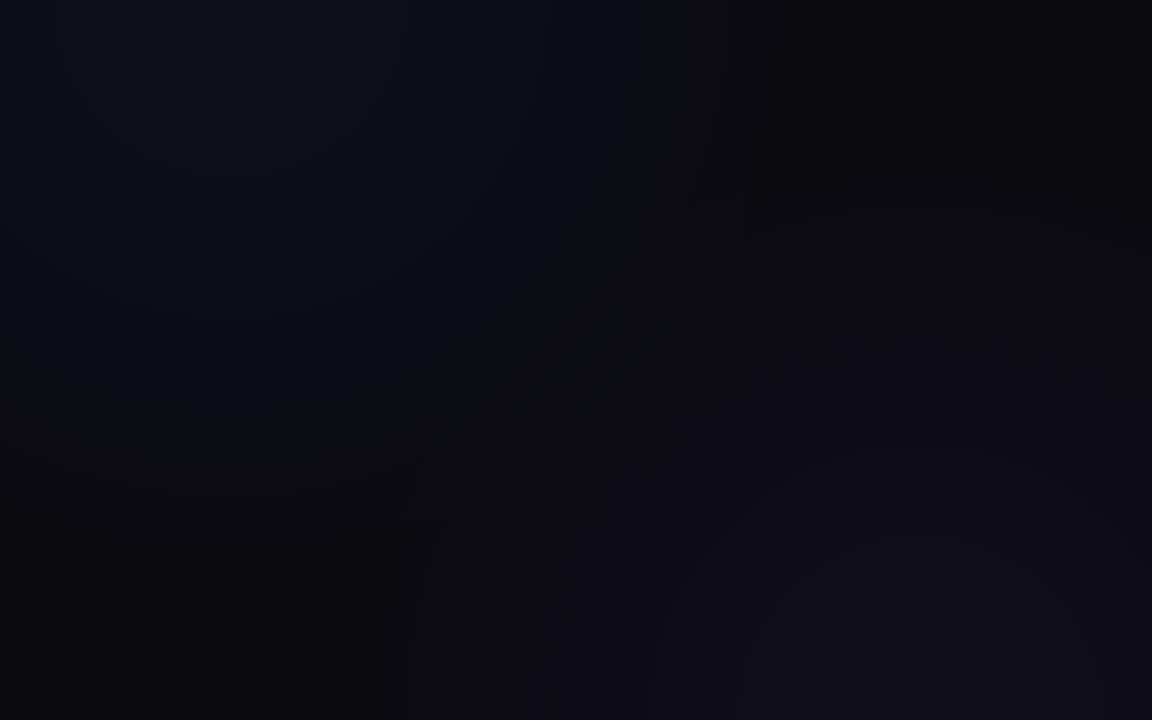
Test case: CommandPalette › selecting "Quick task" opens TaskComposer (Sheet visible) and closes the palette
This screenshot has width=1152, height=720.
// Open the palette
Type keys "{Meta>}k{/Meta}"
(page scrolled)
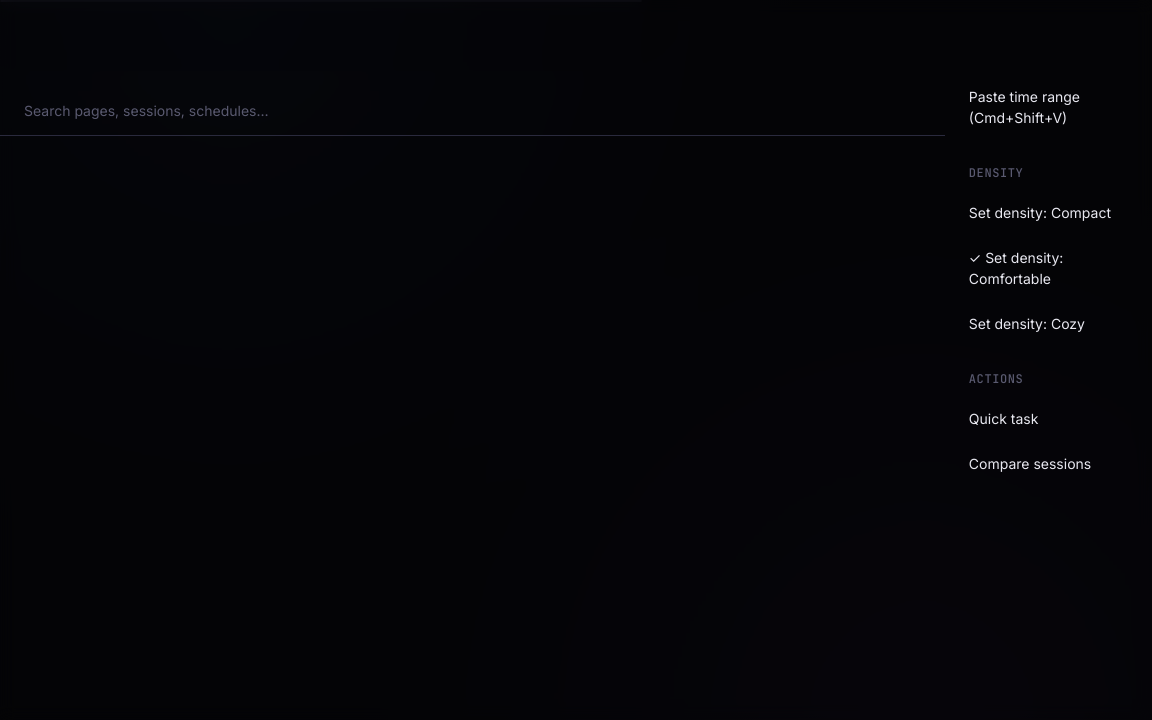
Click the option "Quick task": (1004, 419) [969, 410, 1038, 427]
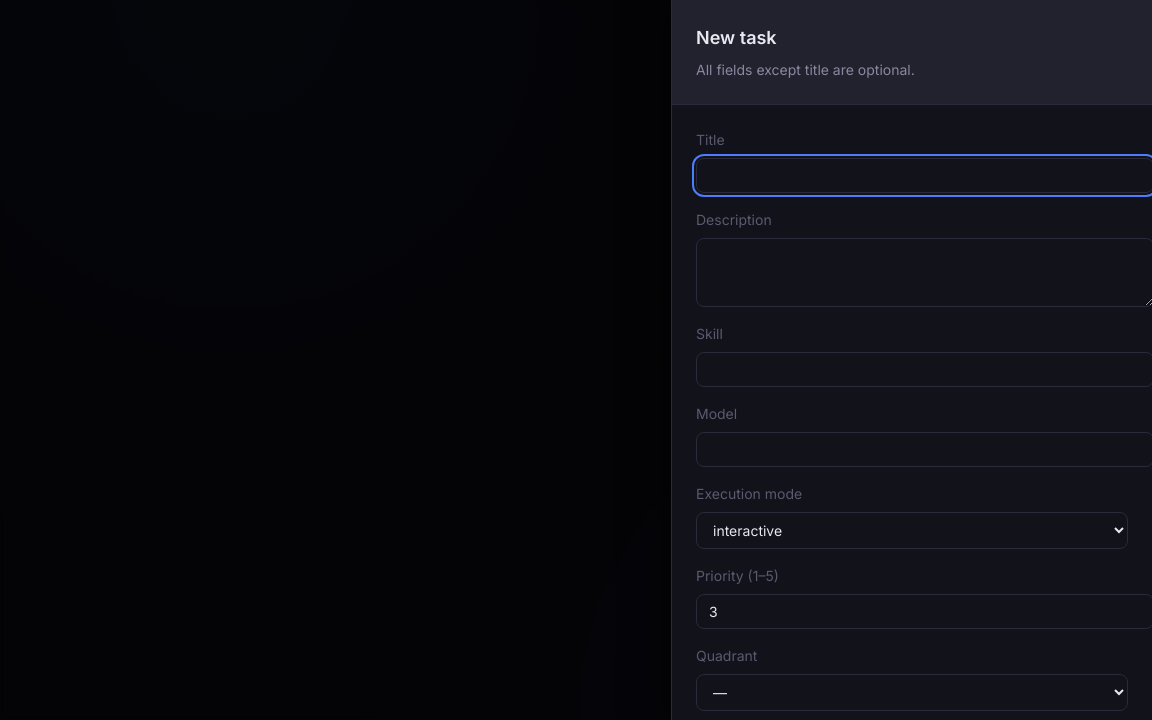
expect the field with placeholder "search pages" is not shown: met
expect the heading "New task" is shown: met, box [696, 27, 777, 48]
